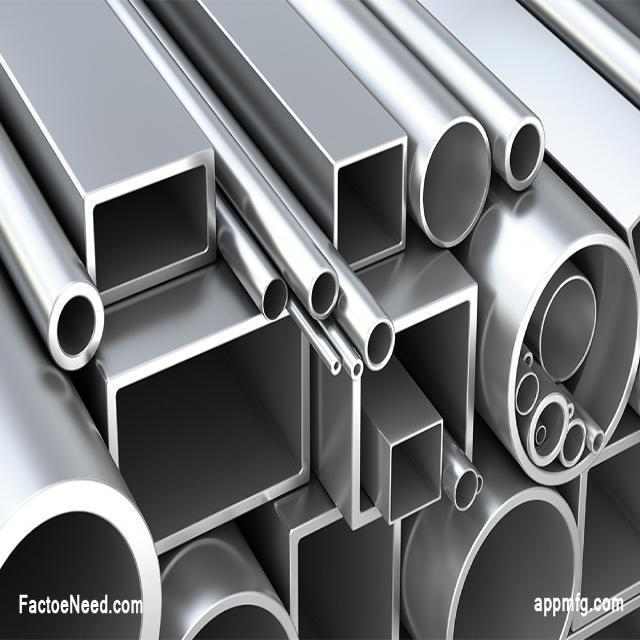pipe: (114, 321, 305, 548), (513, 238, 640, 483), (359, 291, 475, 525), (0, 502, 154, 640), (449, 498, 578, 640), (89, 157, 211, 300), (297, 519, 400, 640), (581, 435, 640, 617), (335, 143, 405, 269), (423, 119, 490, 246), (541, 278, 596, 380), (391, 423, 442, 525), (52, 283, 102, 367), (510, 121, 543, 188), (533, 398, 566, 458), (366, 320, 393, 367), (310, 270, 337, 316), (263, 280, 287, 321), (455, 469, 477, 510), (517, 374, 538, 414), (564, 424, 583, 460), (593, 433, 603, 451), (353, 360, 363, 377), (536, 426, 545, 444), (332, 359, 341, 374), (525, 355, 532, 367), (569, 407, 572, 416)
